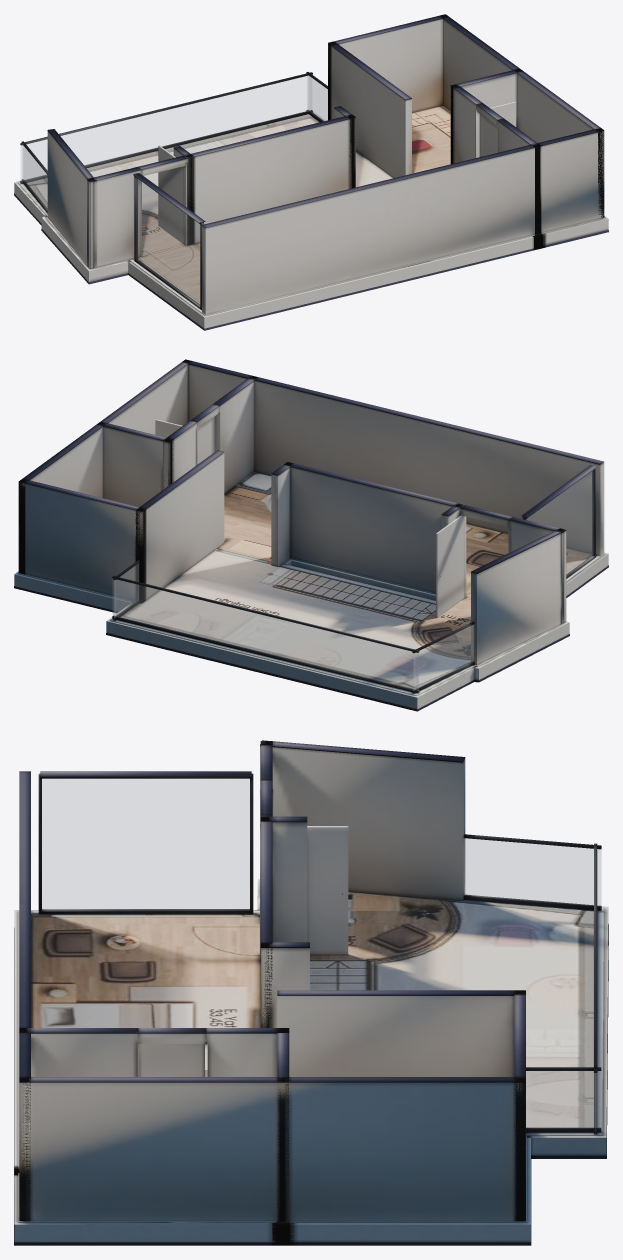
3 views of the same model, one above another, from view 1: azimuth 30°, elevation 25°; view 2: azimuth 150°, elevation 25°; view 3: azimuth 270°, elevation 25° (orthographic). The views are drawn at different scales.
Parts seen in each view (by area): view 1: plan, railg0_m, glass0_m, railg2_m, railg1_m; view 2: plan, railg0_m, glass0_m, railg2_m, railg1_m; view 3: plan, glass0_m, railg2_m, railg1_m.
Part boxes in pixels (box(x1,y1,x2,y2)): plan: box(14, 14, 608, 330); railg0_m: box(21, 76, 311, 180); glass0_m: box(137, 178, 199, 305); railg2_m: box(23, 146, 47, 208); railg1_m: box(308, 76, 327, 120); plan: box(14, 359, 608, 711); railg0_m: box(113, 579, 418, 690); glass0_m: box(526, 470, 593, 574); railg2_m: box(413, 625, 473, 690); railg1_m: box(114, 563, 138, 617); plan: box(14, 740, 608, 1245); glass0_m: box(42, 779, 249, 909); railg2_m: box(464, 838, 601, 906); railg1_m: box(526, 1071, 600, 1127).
Bounding box in the file's own units: 12.03 × 2.62 × 8.76.
Materials: 2 (1 with a texture image).
